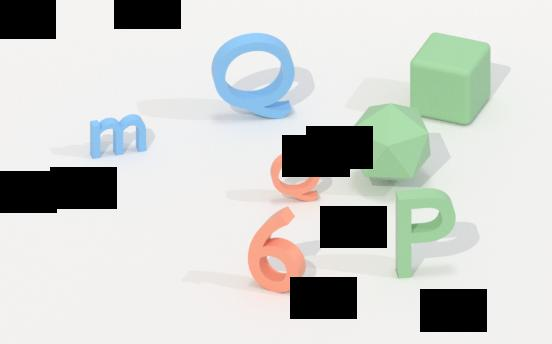6: (248, 206, 307, 293)
dagiac: (351, 102, 433, 185)
hop: (409, 29, 494, 129)
m: (88, 111, 151, 161)
p: (394, 187, 458, 280)
q: (212, 31, 294, 122), (270, 148, 322, 204)
